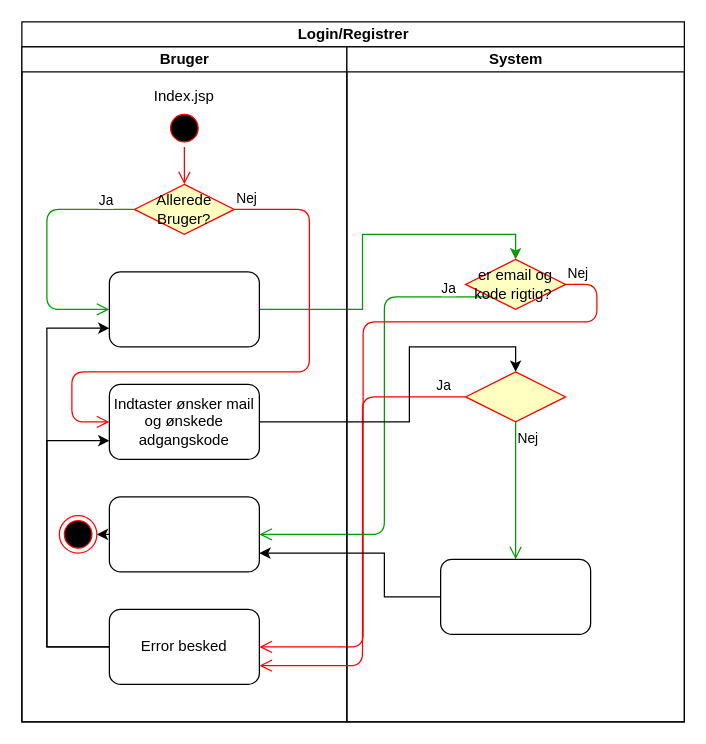
Some shapes in this 706 by 744 pixel diagram are drawn without their labels. The centre of each missing label's shape, as x and y in pixels:
"Eksistere email allerede?" belongs at (x=515, y=396).
"Indtaster email og adgangskode" belongs at (x=183, y=309).
"Oprettes i databasen" belongs at (x=515, y=596).
"Sendes til request.jsp" belongs at (x=183, y=534).
